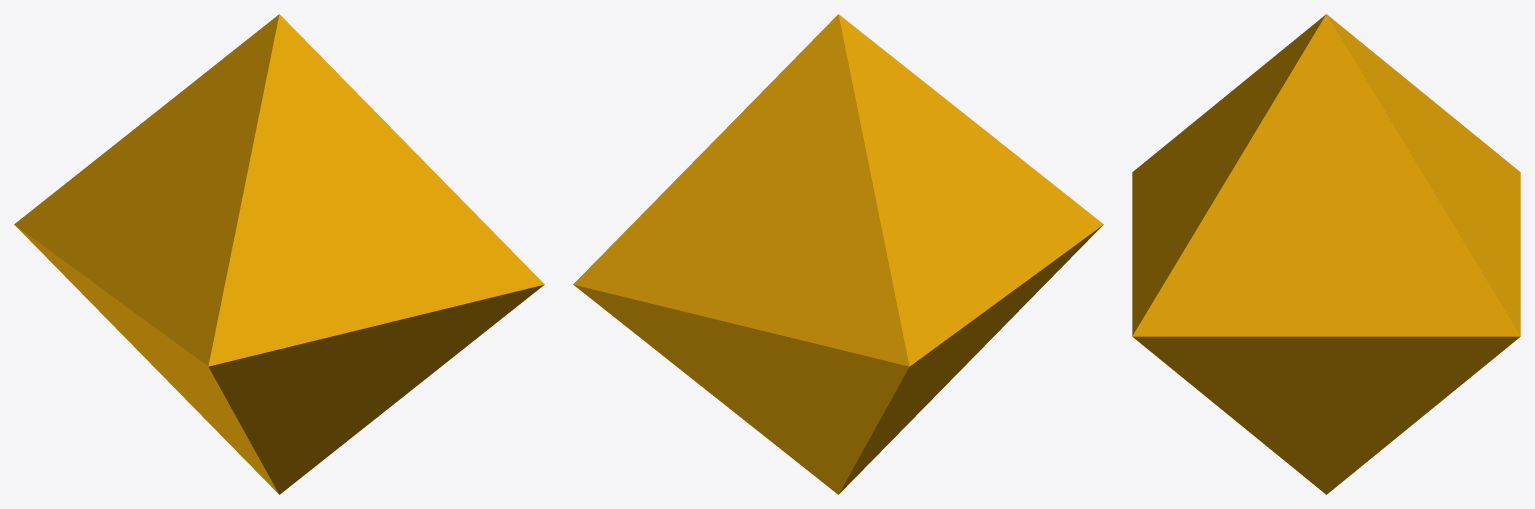
Rendered from Diamond_2.fbx.
The picture shows the model from 3 angles, left to right: view 1: azimuth 30°, elevation 25°; view 2: azimuth 150°, elevation 25°; view 3: azimuth 270°, elevation 25°; orthographic projection.
Parts seen in each view (by area): view 1: Diamond_2; view 2: Diamond_2; view 3: Diamond_2.
Boxes of the visible parts, x1,y1,x2,y2 form: Diamond_2: (14,14,544,494); Diamond_2: (573,14,1103,494); Diamond_2: (1132,14,1520,494).
Bounding box in the file's own units: 2 × 2.73 × 2.
